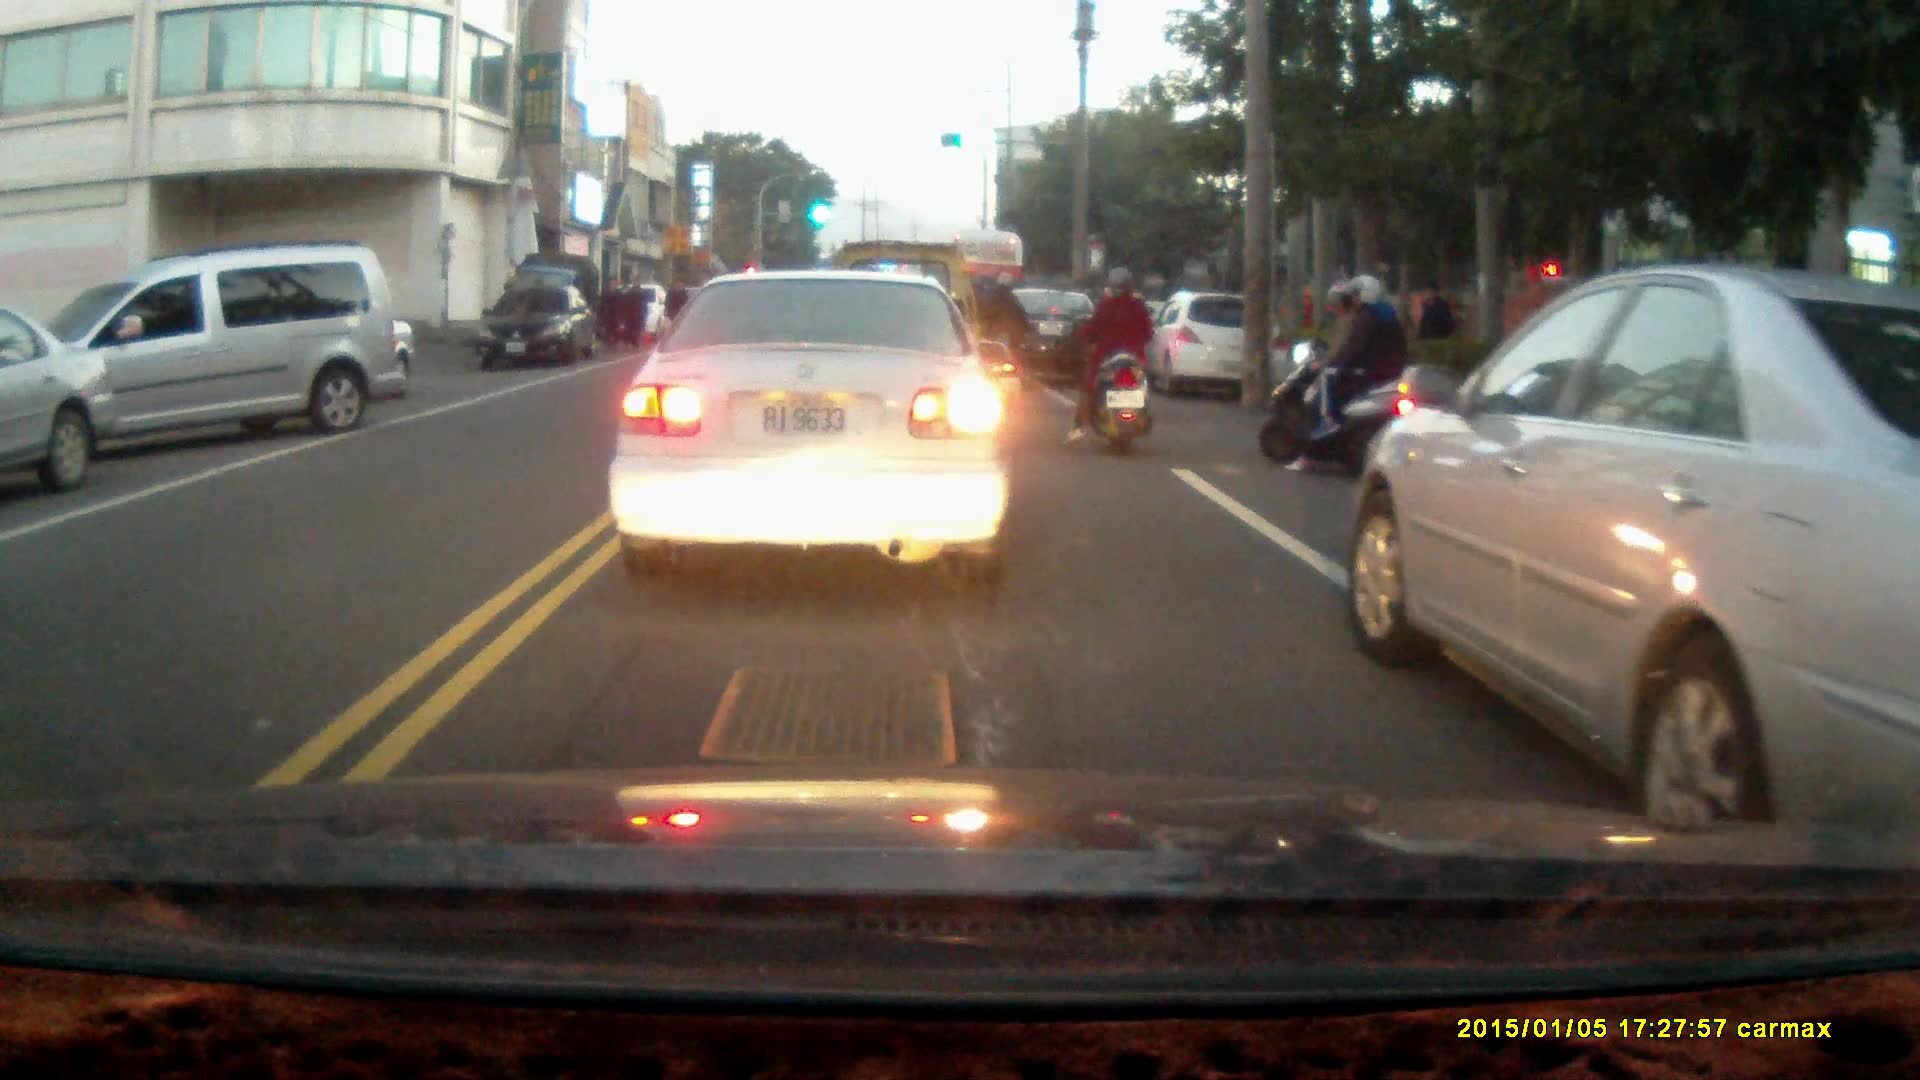pedestrian: (1414, 276, 1451, 367), (596, 272, 626, 353), (618, 272, 645, 351), (662, 275, 690, 345)
rider: (1256, 268, 1414, 474), (1059, 262, 1155, 450), (966, 270, 1030, 394)
vehicle: (1349, 258, 1920, 839), (617, 268, 1016, 590), (19, 247, 396, 464), (1, 304, 116, 495), (1142, 294, 1287, 399), (975, 286, 1114, 390), (483, 280, 602, 368)
